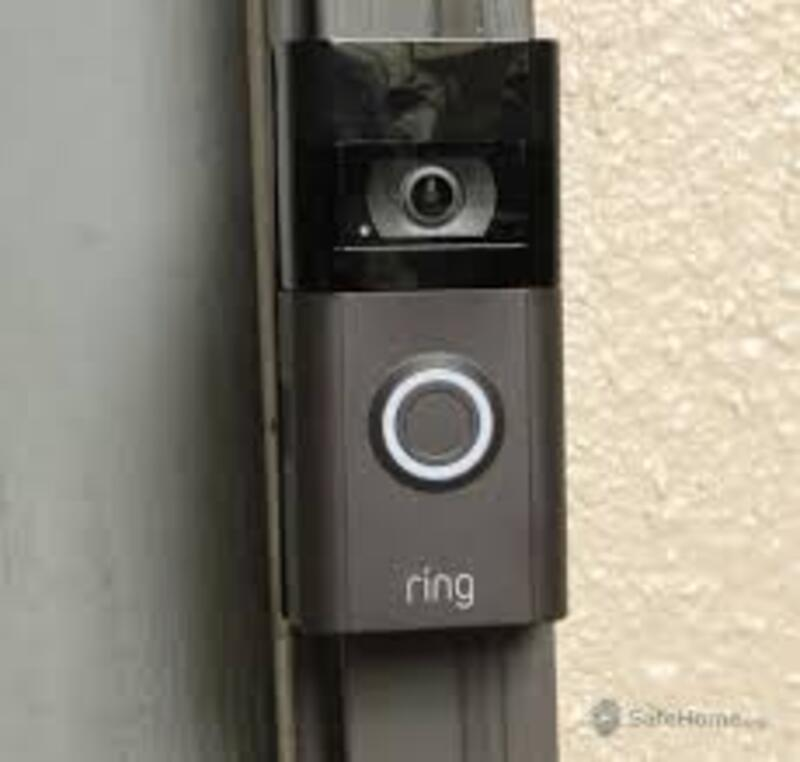doorbell: (248, 27, 588, 643)
